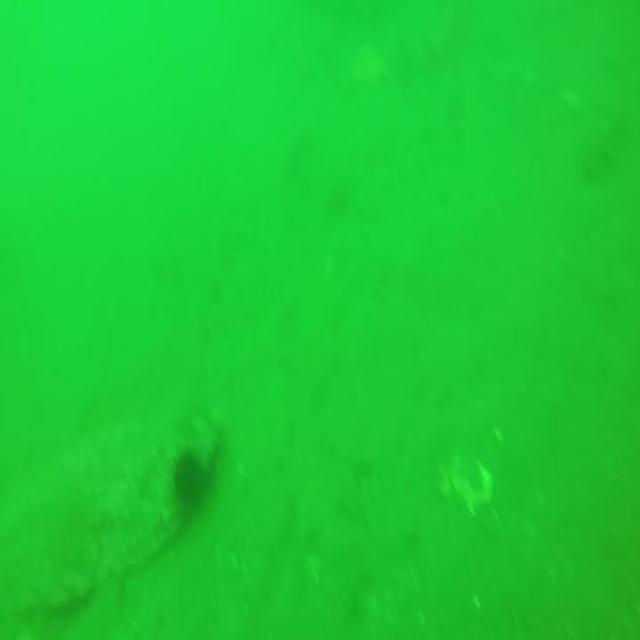echinus: (166, 446, 206, 504)
scallop: (445, 446, 497, 507)
